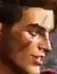kevin: (5, 1, 51, 73)
